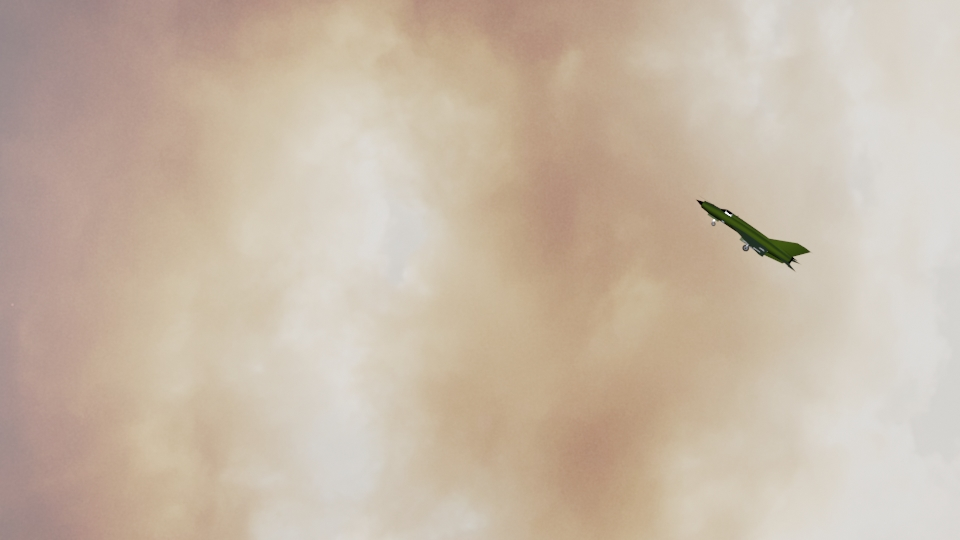plane: (696, 198, 811, 274)
